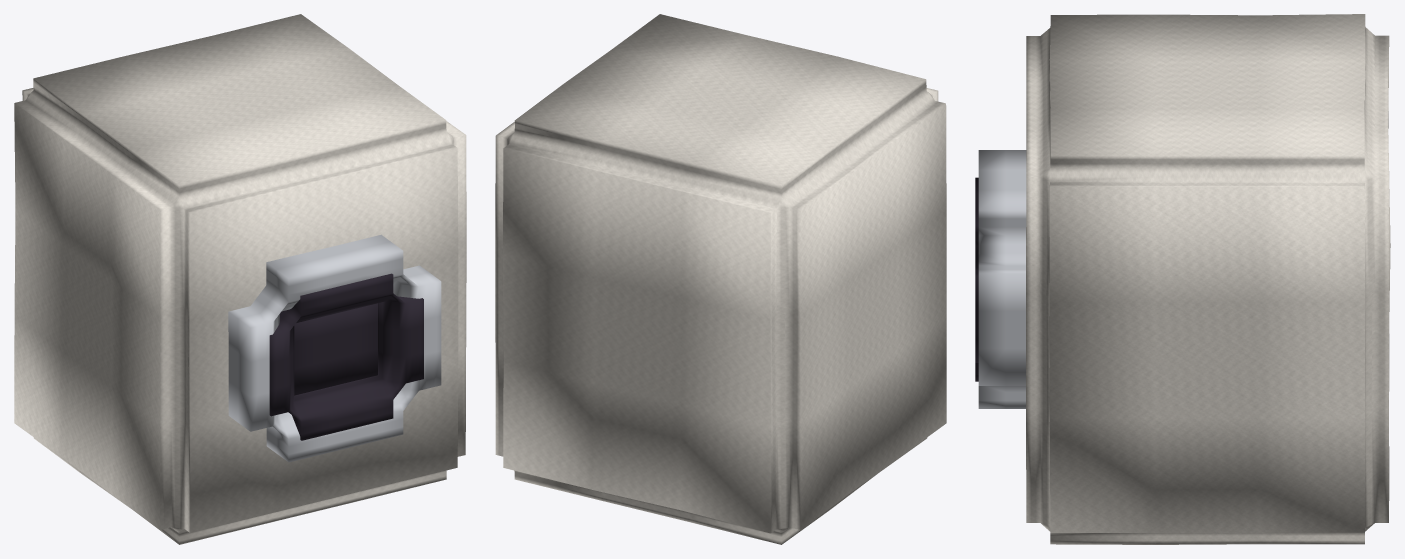
The model's file is SecheLinge.glb.
The picture shows the model from 3 angles, left to right: view 1: azimuth 30°, elevation 25°; view 2: azimuth 150°, elevation 25°; view 3: azimuth 270°, elevation 25°; orthographic projection. The views are drawn at different scales.
Parts seen in each view (by area): view 1: Corps, Porte_Vitre, Porte; view 2: Corps; view 3: Corps, Porte, Porte_Vitre.
Part boxes in pixels (bbox=[...]): Corps: bbox=[14, 14, 466, 544]; Porte_Vitre: bbox=[269, 273, 423, 440]; Porte: bbox=[228, 234, 441, 462]; Corps: bbox=[495, 14, 946, 544]; Corps: bbox=[1026, 14, 1390, 544]; Porte: bbox=[978, 150, 1026, 408]; Porte_Vitre: bbox=[975, 177, 978, 381].
Bounding box in the file's own units: 0.8027 × 0.903 × 0.8703.
Materials: 3 (1 with a texture image).
